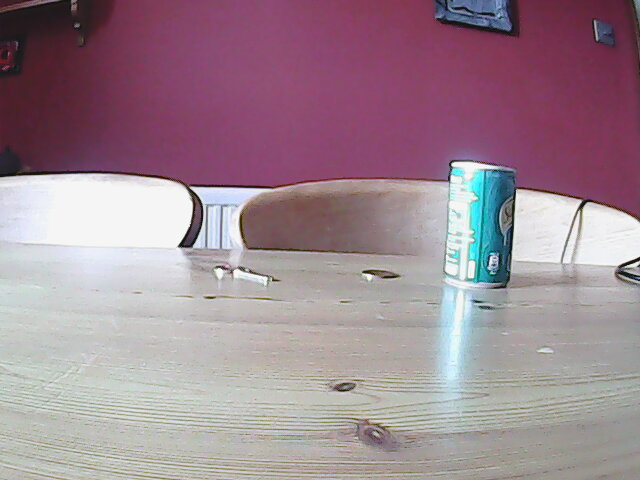Can: (443, 158, 516, 291)
Coin: (360, 265, 399, 282)
Key: (212, 260, 278, 285)
